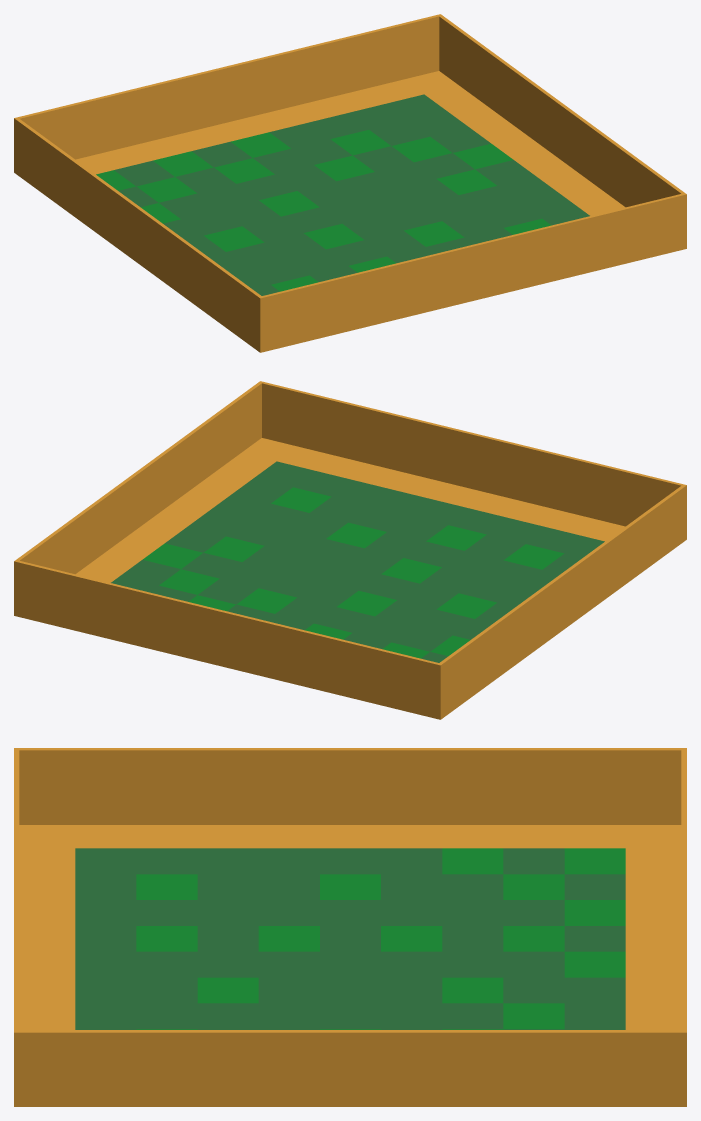
The model's file is arena.fbx.
The picture shows the model from 3 angles, top to bottom: view 1: azimuth 30°, elevation 25°; view 2: azimuth 150°, elevation 25°; view 3: azimuth 270°, elevation 25°; orthographic projection. The views are drawn at different scales.
Parts seen in each view (by area): view 1: Plane; view 2: Plane; view 3: Plane.
Part boxes in pixels (<box>): Plane: <box>14,14,686,352</box>; Plane: <box>14,381,686,719</box>; Plane: <box>14,748,686,1106</box>.
Bounding box in the file's own units: 1555 × 190 × 1555.
